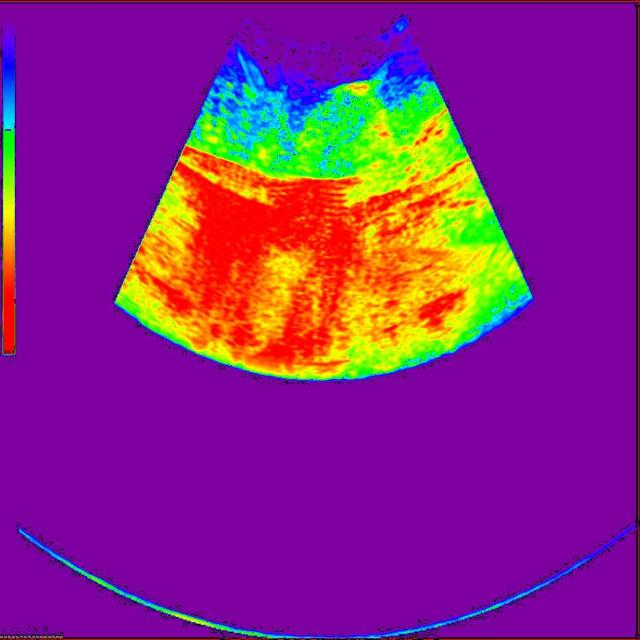chicken muscle pre: (287, 80, 388, 176)
